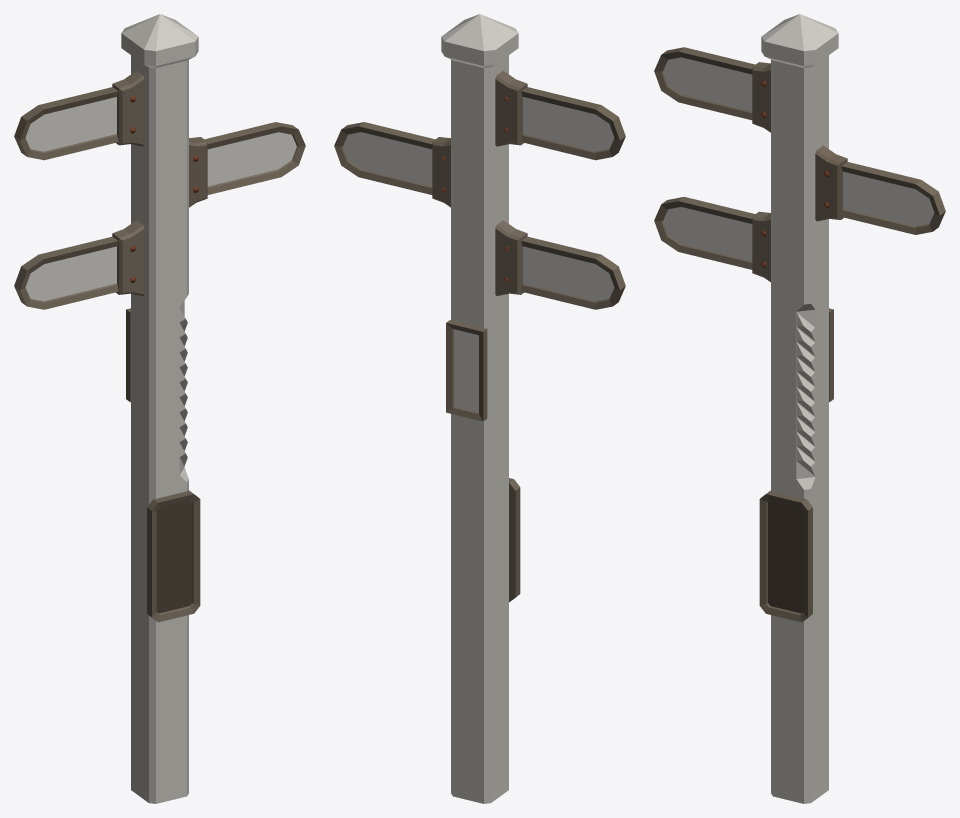
The model's file is seafront-wayfinding-post-67fc84.glb.
3 renders of one model, left to right at view 1: azimuth 30°, elevation 25°; view 2: azimuth 150°, elevation 25°; view 3: azimuth 330°, elevation 25°, orthographic.
Visible parts, largest first — view 1: wayfinding-post; view 2: wayfinding-post; view 3: wayfinding-post.
Boxes of the visible parts, <box> form: wayfinding-post: <box>14,14,305,803</box>; wayfinding-post: <box>334,14,625,803</box>; wayfinding-post: <box>654,14,945,803</box>.
Size of the model in its own units: 1 by 2.6 by 0.193.
